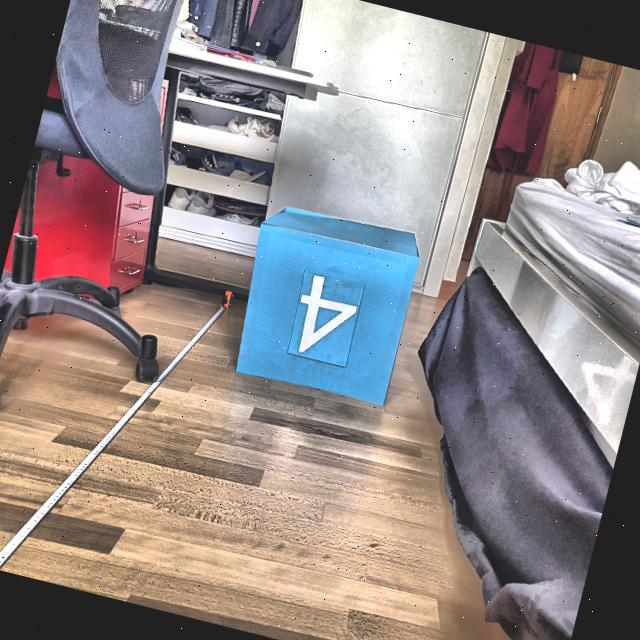blue box: (219, 193, 430, 412)
four: (284, 269, 365, 365)
